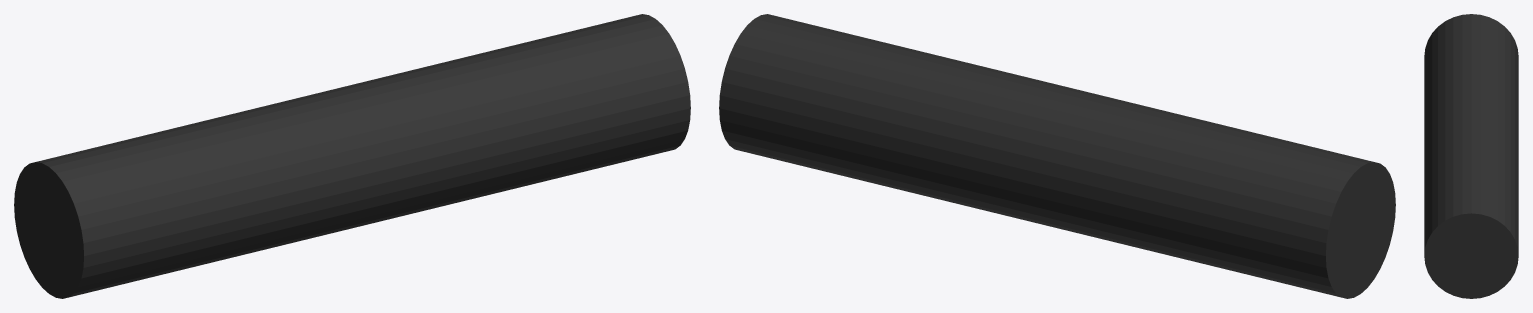
File: wire.obj
The picture shows the model from 3 angles, left to right: view 1: azimuth 30°, elevation 25°; view 2: azimuth 150°, elevation 25°; view 3: azimuth 270°, elevation 25°; orthographic projection. The views are drawn at different scales.
Visible parts, largest first — view 1: 円柱; view 2: 円柱; view 3: 円柱.
Boxes of the visible parts, x1,y1,x2,y2 form: 円柱: (14,14,690,298); 円柱: (719,14,1395,298); 円柱: (1424,14,1518,298).
Bounding box in the file's own units: 1 × 0.2 × 0.2.
Materials: 1 (1 with a texture image).
